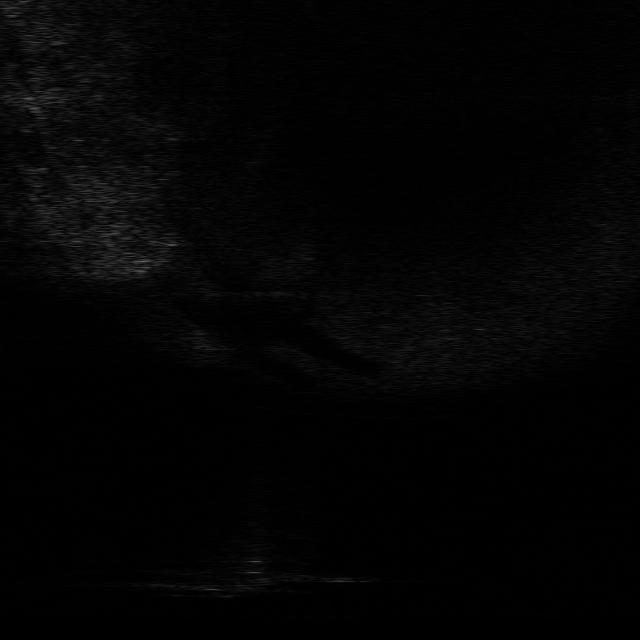plane: (135, 540, 374, 601)
